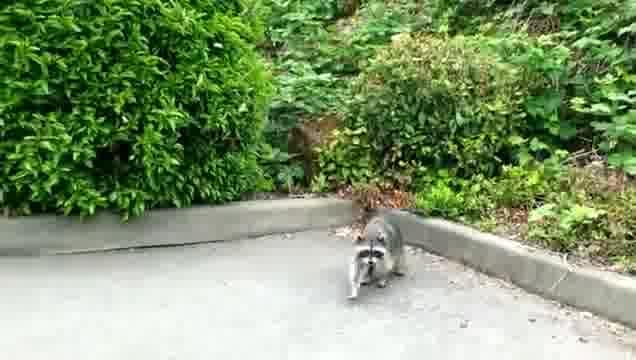raccoon: (347, 216, 406, 300)
